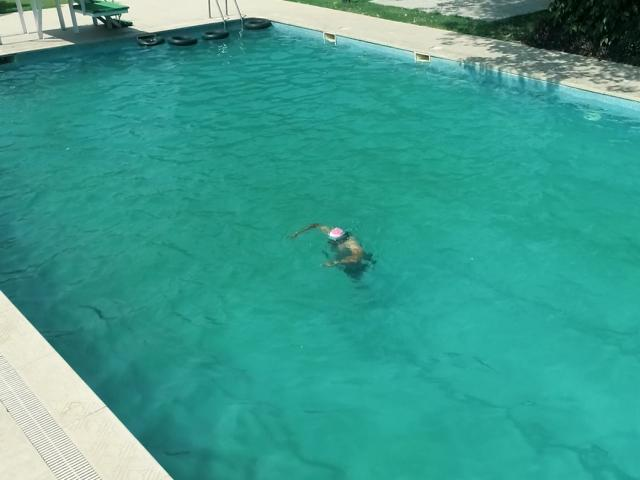drowning: (289, 218, 380, 284)
